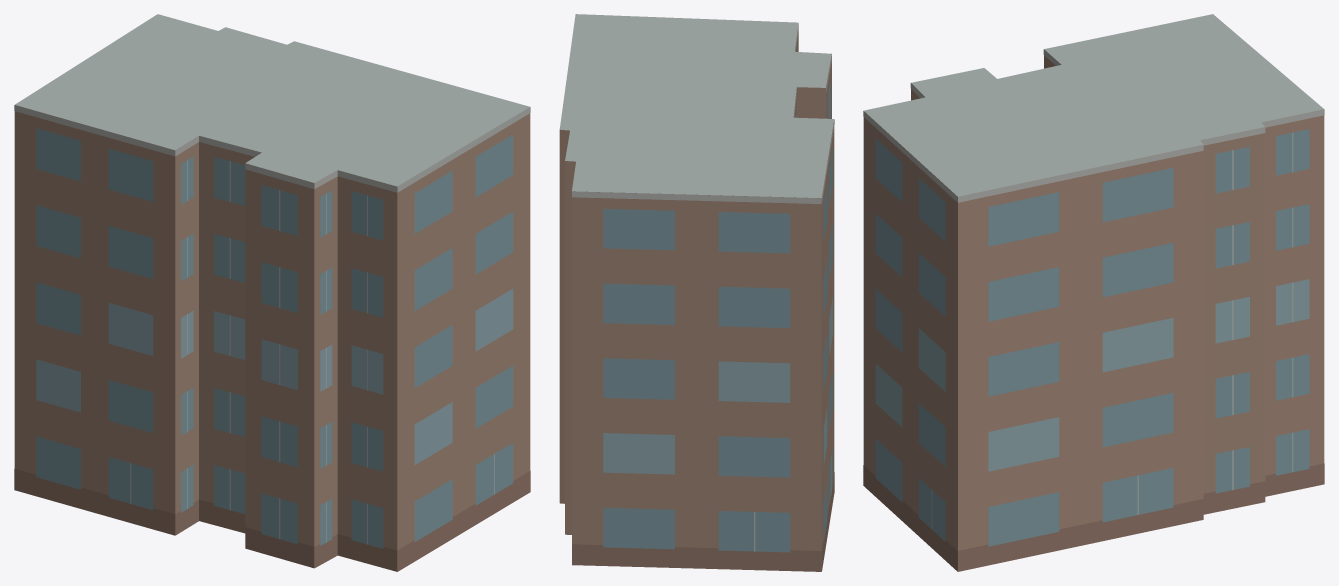
Rendered from survey-upis-33010350.glb.
3 renders of one model, left to right at view 1: azimuth 30°, elevation 25°; view 2: azimuth 150°, elevation 25°; view 3: azimuth 270°, elevation 25°, orthographic. The views are drawn at different scales.
Visible parts, largest first — view 1: survey-upis-33010350.tmp; view 2: survey-upis-33010350.tmp; view 3: survey-upis-33010350.tmp.
Part boxes in pixels (<box>): survey-upis-33010350.tmp: <box>14,14,530,571</box>; survey-upis-33010350.tmp: <box>559,14,834,571</box>; survey-upis-33010350.tmp: <box>863,14,1324,571</box>.
Bounding box in the file's own units: 15.95 × 15.25 × 17.
